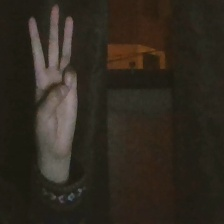W: (18, 1, 84, 160)
